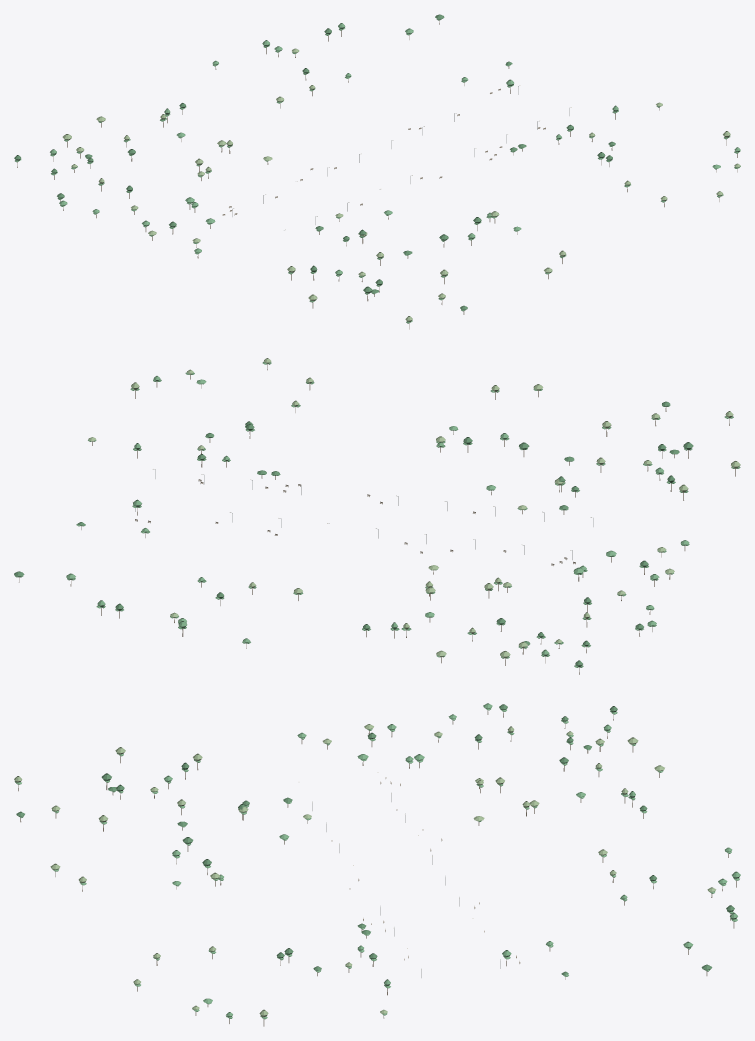
3 views of the same model, one above another, from view 1: azimuth 30°, elevation 25°; view 2: azimuth 150°, elevation 25°; view 3: azimuth 270°, elevation 25° (orthographic). The views are drawn at different scales.
Parts seen in each view (by area): view 1: Agargaon neighborhood furniture (approximate); view 2: Agargaon neighborhood furniture (approximate); view 3: Agargaon neighborhood furniture (approximate).
Part boxes in pixels (box(x1,y1,x2,y2)): Agargaon neighborhood furniture (approximate): box(14, 14, 740, 329); Agargaon neighborhood furniture (approximate): box(14, 358, 740, 674); Agargaon neighborhood furniture (approximate): box(14, 703, 740, 1026).
Size of the model in its own units: 511 by 12.34 by 497.
